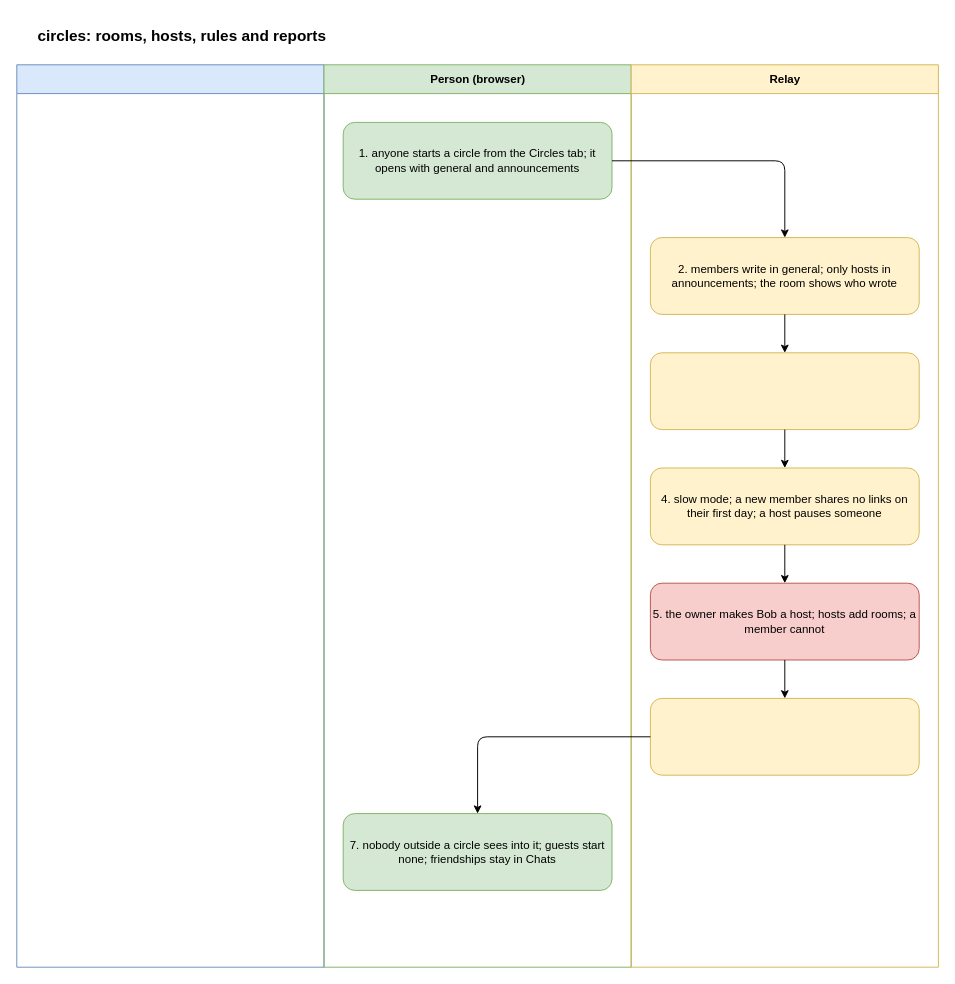
The diagram is 955 pixels wide and 984 high, and some of its shapes have lost their labels. The centre of each missing label's shape, as x and y in pixels:
"3. house rules are accepted once before writing; new rules are accepted again" goes at point 784,391.
"6. a report reaches the hosts; they delete it for everyone or keep it" goes at point 784,736.
"Agent (MCP client)" goes at point 170,515.
